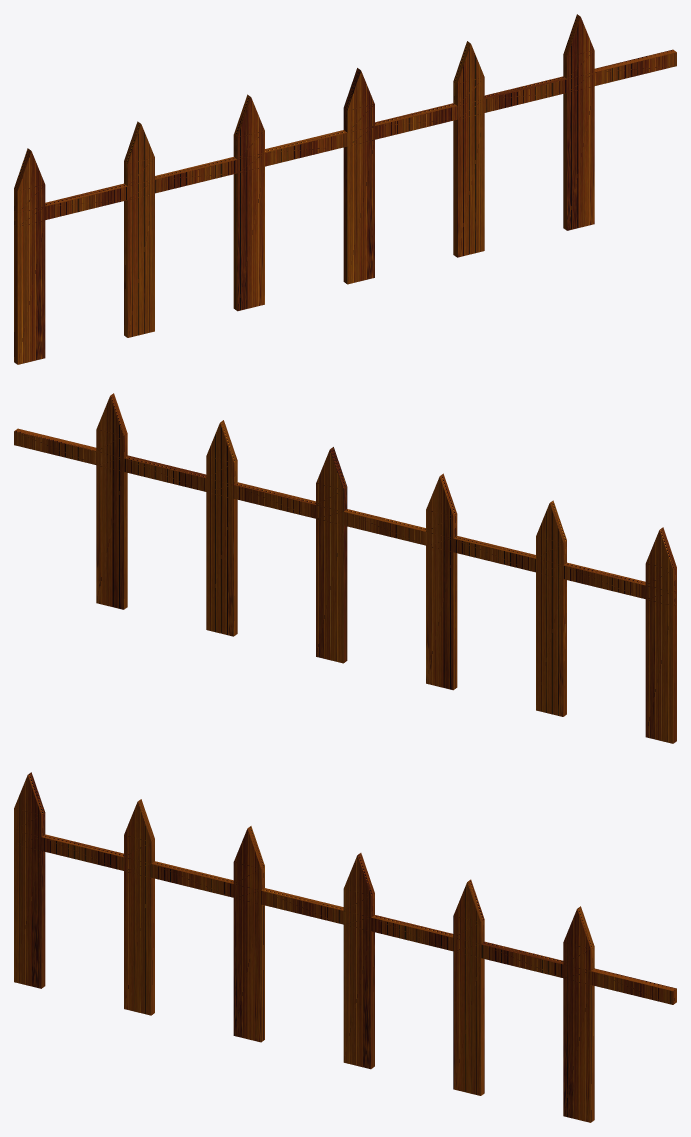
Rendered from WoodStay.fbx.
3 views of the same model, one above another, from view 1: azimuth 30°, elevation 25°; view 2: azimuth 150°, elevation 25°; view 3: azimuth 330°, elevation 25° (orthographic).
Parts seen in each view (by area): view 1: WoodStay; view 2: WoodStay; view 3: WoodStay.
Part boxes in pixels (x1,y1,x2,y2): WoodStay: (14, 14, 676, 364); WoodStay: (14, 393, 676, 743); WoodStay: (14, 772, 676, 1122).
Size of the model in its own units: 500 by 153 by 5.
